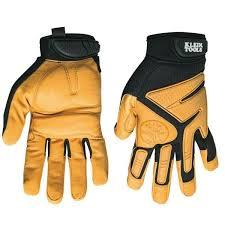gloves: (1, 26, 109, 203), (113, 31, 220, 204)
